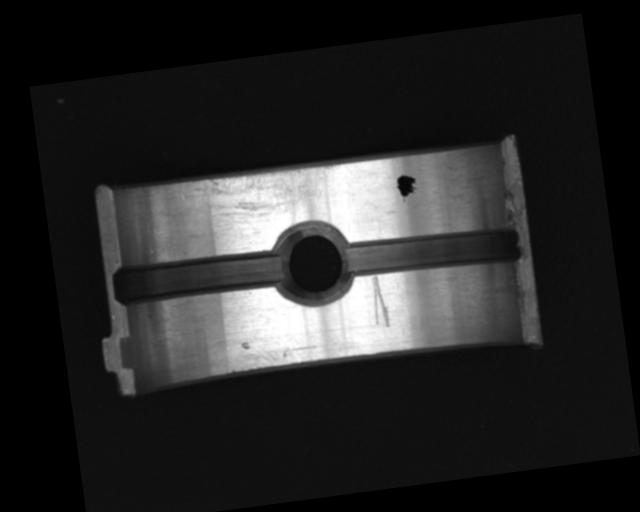blot: (394, 171, 420, 204)
bruise: (240, 341, 251, 351)
gap: (340, 218, 527, 287), (110, 246, 288, 310)
hole: (271, 218, 354, 307)
nick: (368, 273, 392, 329)
scratch: (177, 158, 346, 229)
